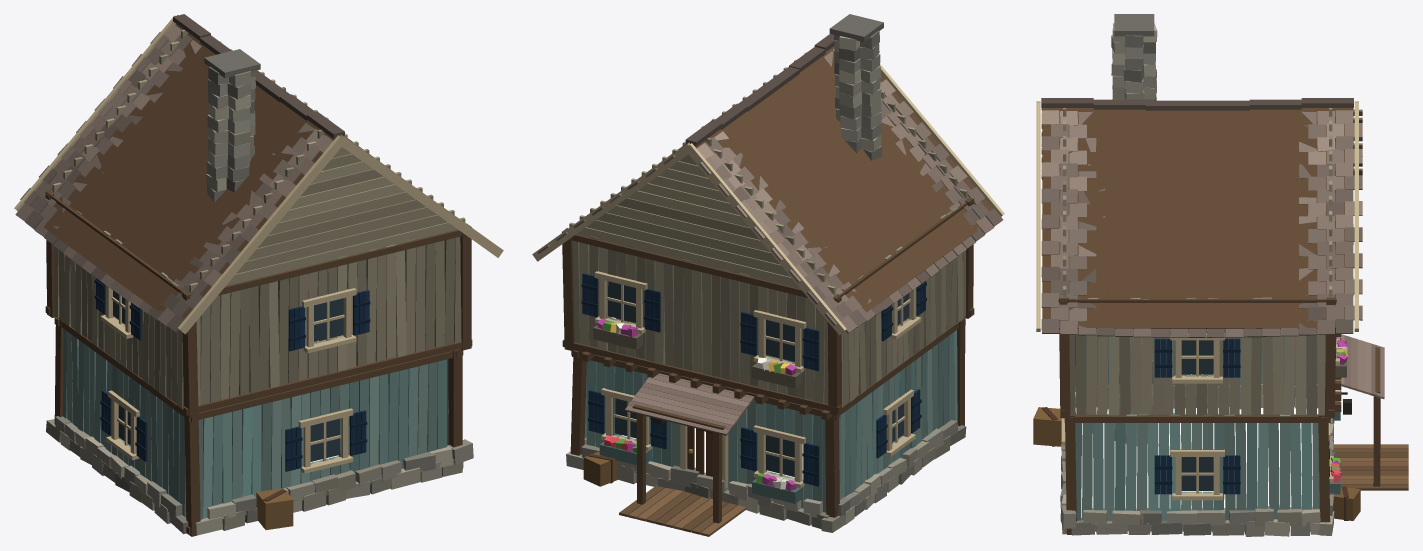
Rendered from sobrado_3.glb.
3 views of the same model, side by side, from view 1: azimuth 30°, elevation 25°; view 2: azimuth 150°, elevation 25°; view 3: azimuth 270°, elevation 25° (orthographic). The views are drawn at different scales.
Parts seen in each view (by area): view 1: Madeira, Pedra, Telhado, Vidro; view 2: Madeira, Telhado, Pedra, Vidro; view 3: Madeira, Telhado, Pedra, Vidro.
Part boxes in pixels (left/top/right/bottom): Madeira: left=14, top=15, right=503, bottom=536; Pedra: left=46, top=49, right=473, bottom=535; Telhado: left=15, top=14, right=344, bottom=332; Vidro: left=113, top=290, right=343, bottom=461; Madeira: left=532, top=46, right=1004, bottom=536; Telhado: left=538, top=34, right=1003, bottom=435; Pedra: left=566, top=14, right=966, bottom=532; Vidro: left=608, top=281, right=909, bottom=476; Madeira: left=1033, top=101, right=1408, bottom=534; Telhado: left=1041, top=98, right=1384, bottom=398; Pedra: left=1060, top=14, right=1348, bottom=536; Vidro: left=1181, top=331, right=1213, bottom=490.
Bounding box in the file's own units: 8.72 × 11 × 8.89.
